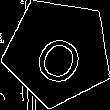O_NE: (27, 20, 89, 85)
